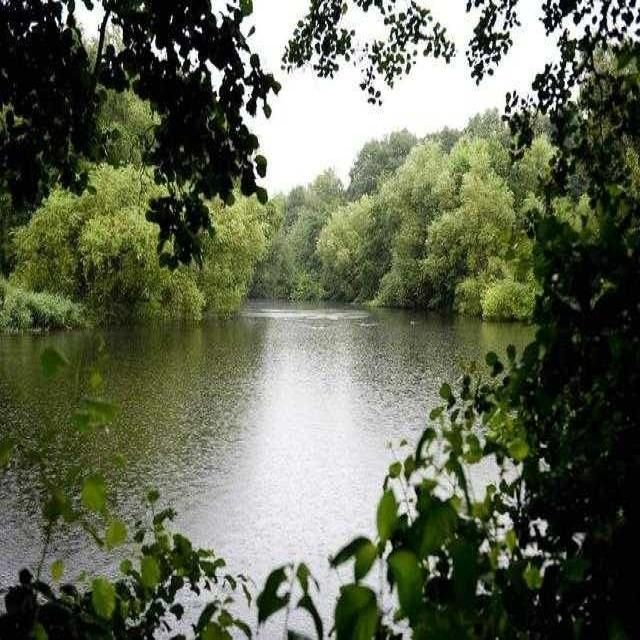Ponds: (1, 302, 528, 640)
